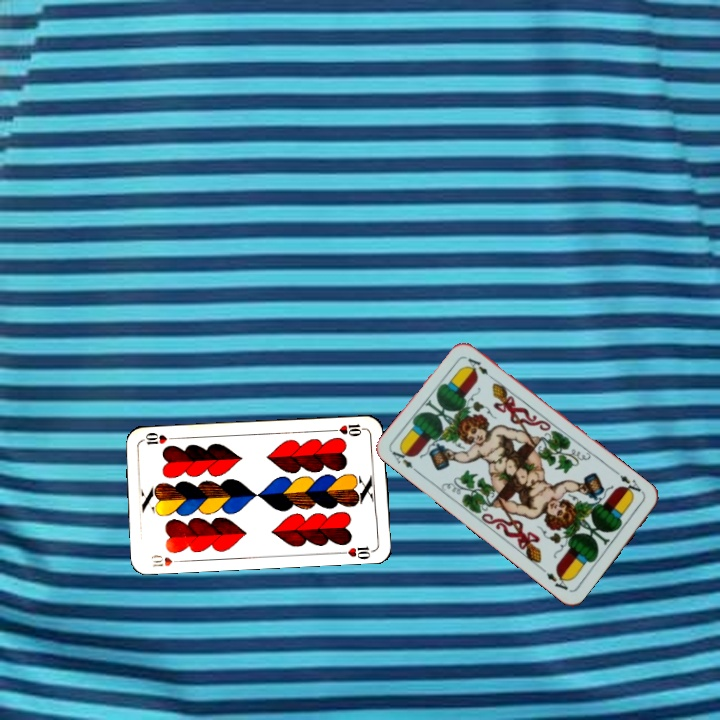EA: (388, 444, 422, 476), (616, 471, 647, 498)
H10: (147, 550, 186, 570), (328, 420, 368, 439)
